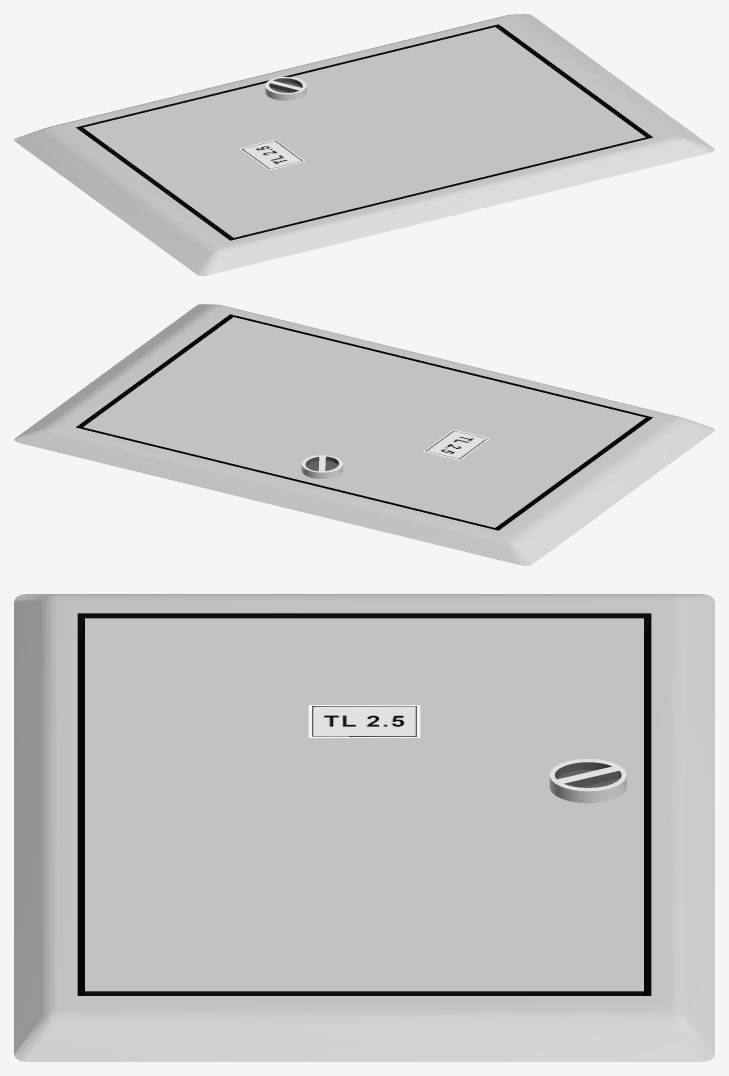
File: Skrzynka.fbx
The picture shows the model from 3 angles, top to bottom: view 1: azimuth 30°, elevation 25°; view 2: azimuth 150°, elevation 25°; view 3: azimuth 270°, elevation 25°; orthographic projection. The views are drawn at different scales.
Parts seen in each view (by area): view 1: Plane, Plane.001; view 2: Plane, Plane.001; view 3: Plane, Plane.001.
Boxes of the visible parts, box(x1,y1,x2,y2) form: Plane: box(14, 14, 714, 275); Plane.001: box(265, 77, 306, 100); Plane: box(14, 304, 714, 565); Plane.001: box(301, 455, 342, 478); Plane: box(14, 594, 714, 1061); Plane.001: box(549, 759, 626, 803).
Bounding box in the file's own units: 316 × 11.48 × 200.
5 materials, 1 textured.
